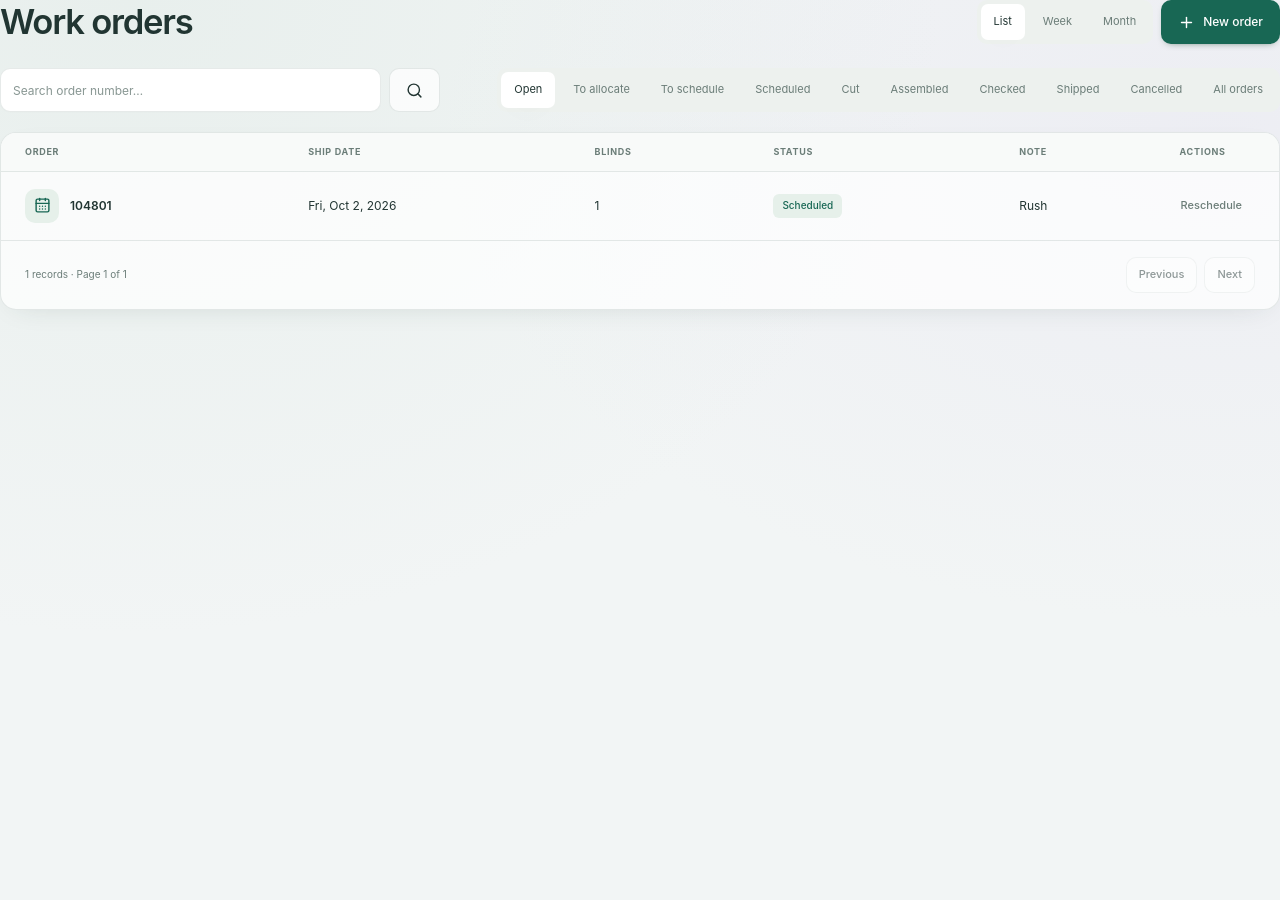
Test case: adds an order from the schedule without leaving it or allocating
Click the button "New order".
click(1221, 22)  # box 1161,0 -> 1279,44
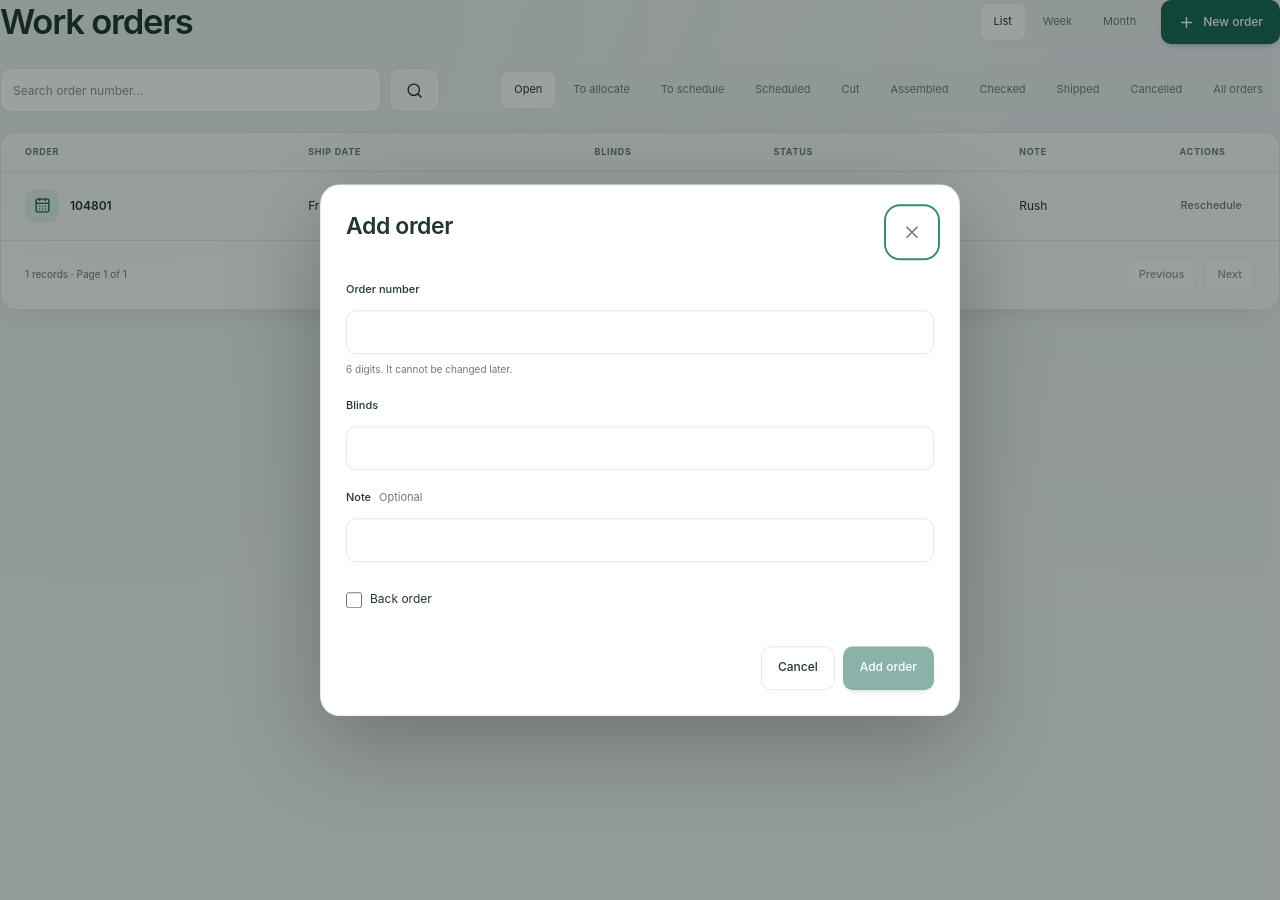
Type "104950" into the field labelled "Order number".
click(640, 332); type("104950")  # box 346,310 -> 934,354
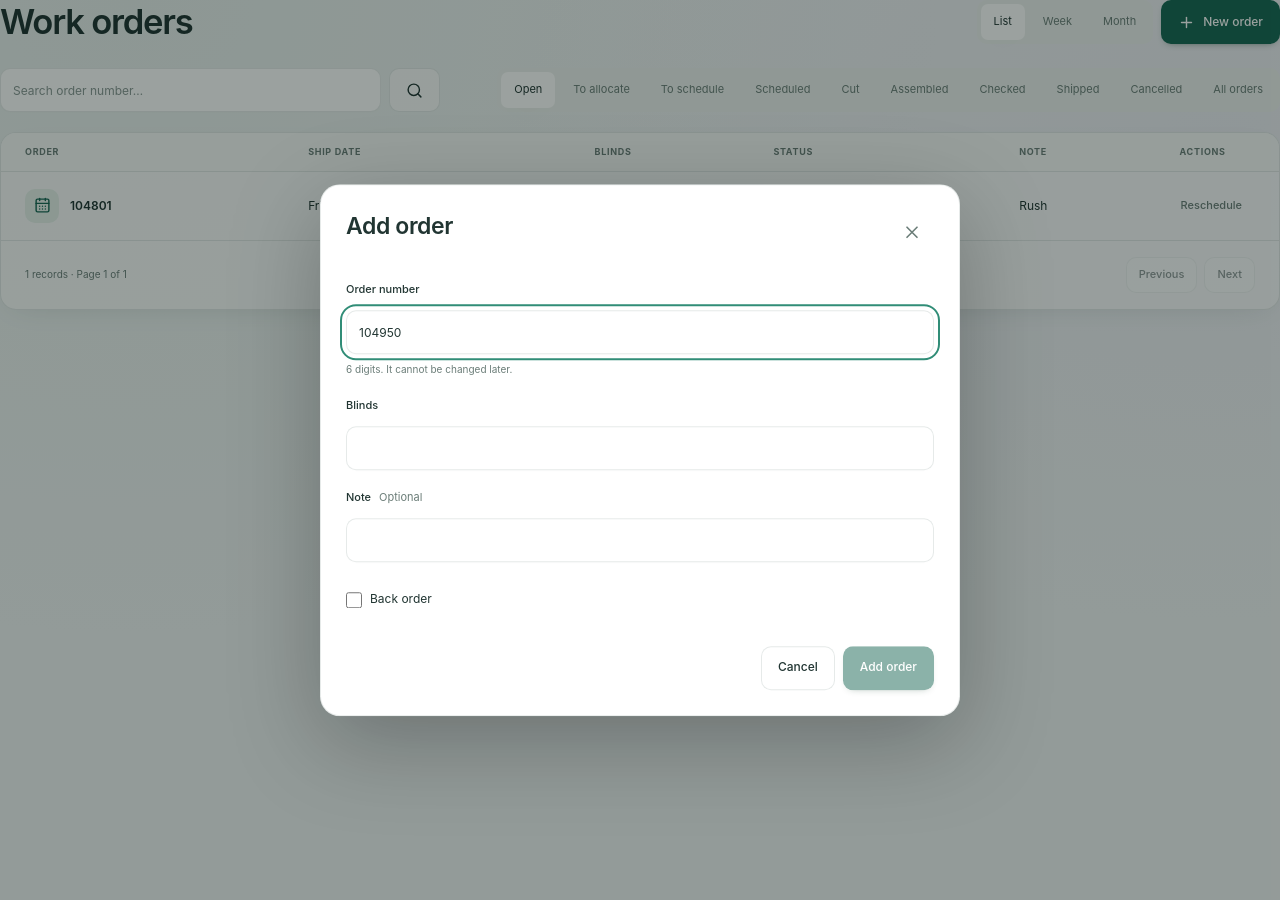
Type "4" into the field labelled "Blinds".
click(640, 448); type("4")  # box 346,426 -> 934,470
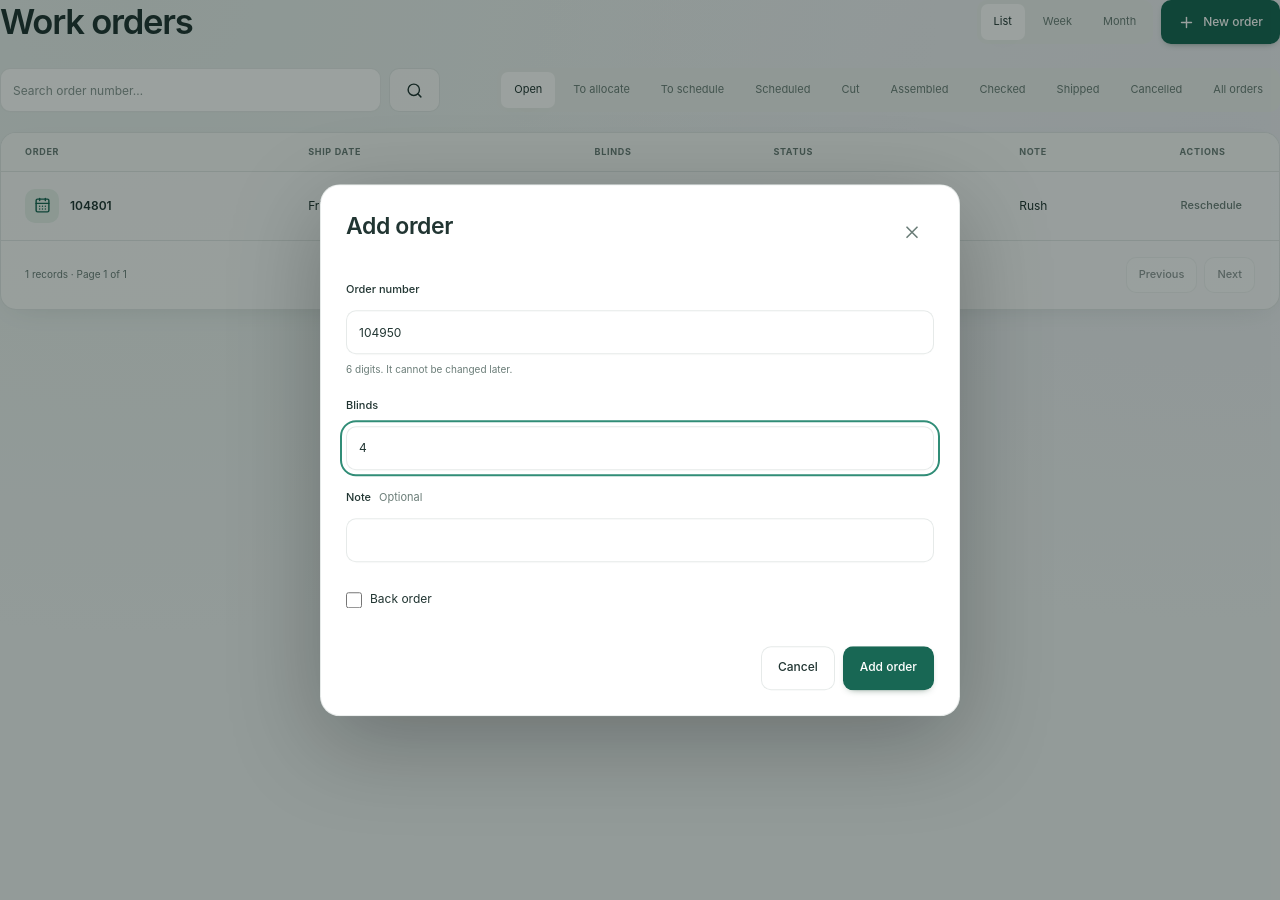
Click the button "Add order".
click(888, 668)  # box 843,646 -> 934,690
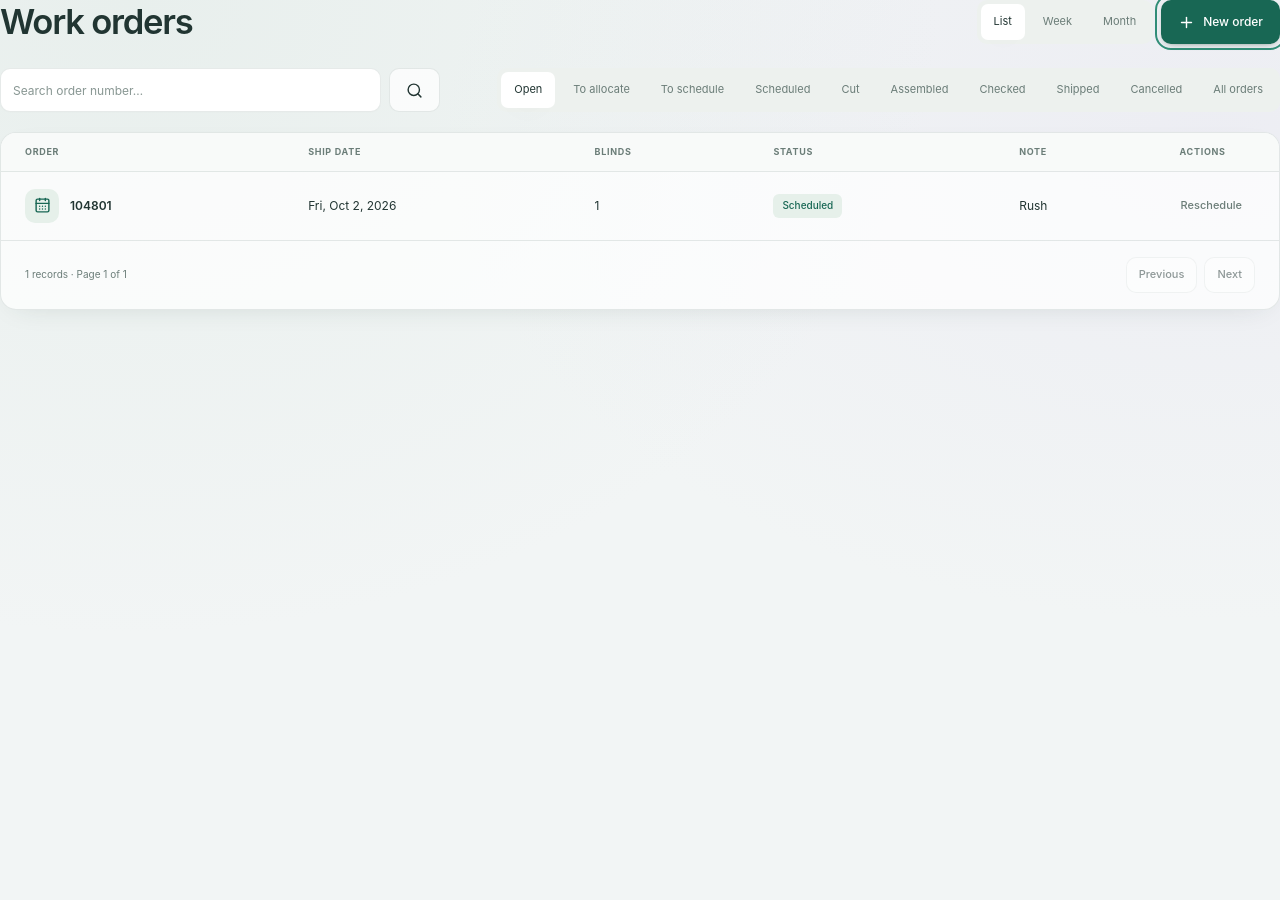
Result: the dialog is gone
